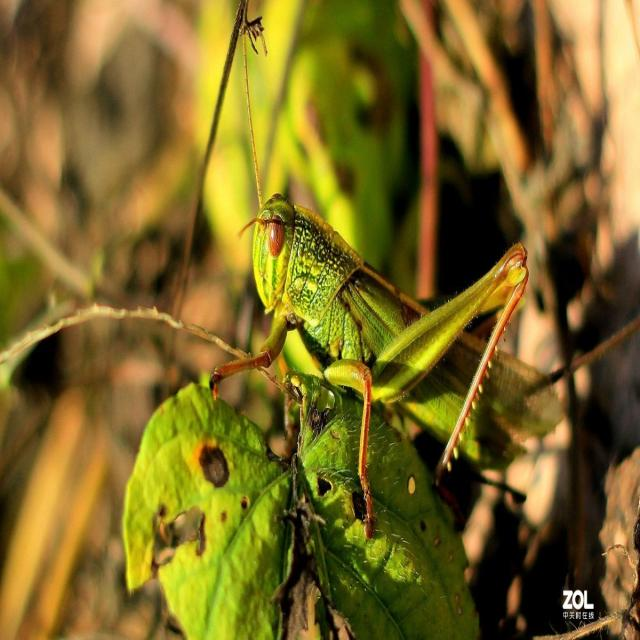ZhaMeng: (196, 164, 580, 484)
